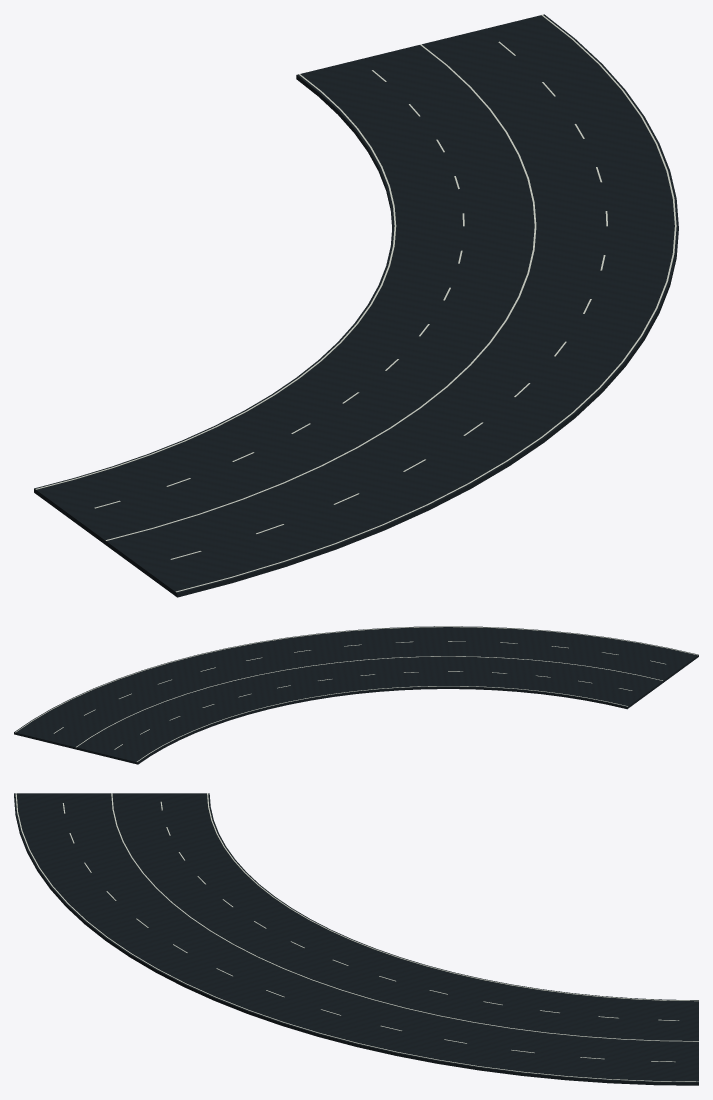
File: Transit_Road_4L_Curve90_R36.glb
The picture shows the model from 3 angles, top to bottom: view 1: azimuth 30°, elevation 25°; view 2: azimuth 150°, elevation 25°; view 3: azimuth 270°, elevation 25°; orthographic projection. The views are drawn at different scales.
Parts seen in each view (by area): view 1: Transit_Road_4L_Curve90_R36_Surface, Transit_Road_4L_Curve90_R36_MarkEdge-1, Transit_Road_4L_Curve90_R36_MarkLane2, Transit_Road_4L_Curve90_R36_MarkEdge+1; view 2: Transit_Road_4L_Curve90_R36_Surface, Transit_Road_4L_Curve90_R36_MarkEdge-1, Transit_Road_4L_Curve90_R36_MarkLane2, Transit_Road_4L_Curve90_R36_MarkEdge+1, Transit_Road_4L_Curve90_R36_MarkLane1; view 3: Transit_Road_4L_Curve90_R36_Surface, Transit_Road_4L_Curve90_R36_MarkEdge-1, Transit_Road_4L_Curve90_R36_MarkLane2, Transit_Road_4L_Curve90_R36_MarkEdge+1.
Part boxes in pixels (box(x1,y1,x2,y2)): Transit_Road_4L_Curve90_R36_Surface: box(34, 14, 678, 597); Transit_Road_4L_Curve90_R36_MarkEdge-1: box(175, 14, 676, 592); Transit_Road_4L_Curve90_R36_MarkLane2: box(105, 44, 536, 540); Transit_Road_4L_Curve90_R36_MarkEdge+1: box(35, 74, 396, 489); Transit_Road_4L_Curve90_R36_Surface: box(14, 626, 698, 764); Transit_Road_4L_Curve90_R36_MarkEdge-1: box(15, 626, 697, 732); Transit_Road_4L_Curve90_R36_MarkLane2: box(76, 656, 662, 747); Transit_Road_4L_Curve90_R36_MarkEdge+1: box(137, 686, 627, 761); Transit_Road_4L_Curve90_R36_MarkLane1: box(53, 641, 665, 733); Transit_Road_4L_Curve90_R36_Surface: box(14, 793, 698, 1085); Transit_Road_4L_Curve90_R36_MarkEdge-1: box(15, 793, 698, 1081); Transit_Road_4L_Curve90_R36_MarkLane2: box(111, 793, 698, 1041); Transit_Road_4L_Curve90_R36_MarkEdge+1: box(207, 793, 698, 1001).
Bounding box in the file's own units: 42 × 0.212 × 42.
Materials: 2 (1 with a texture image).
